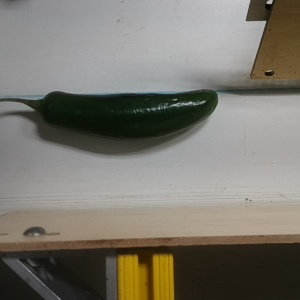Cut Point: (31, 90, 62, 126)
